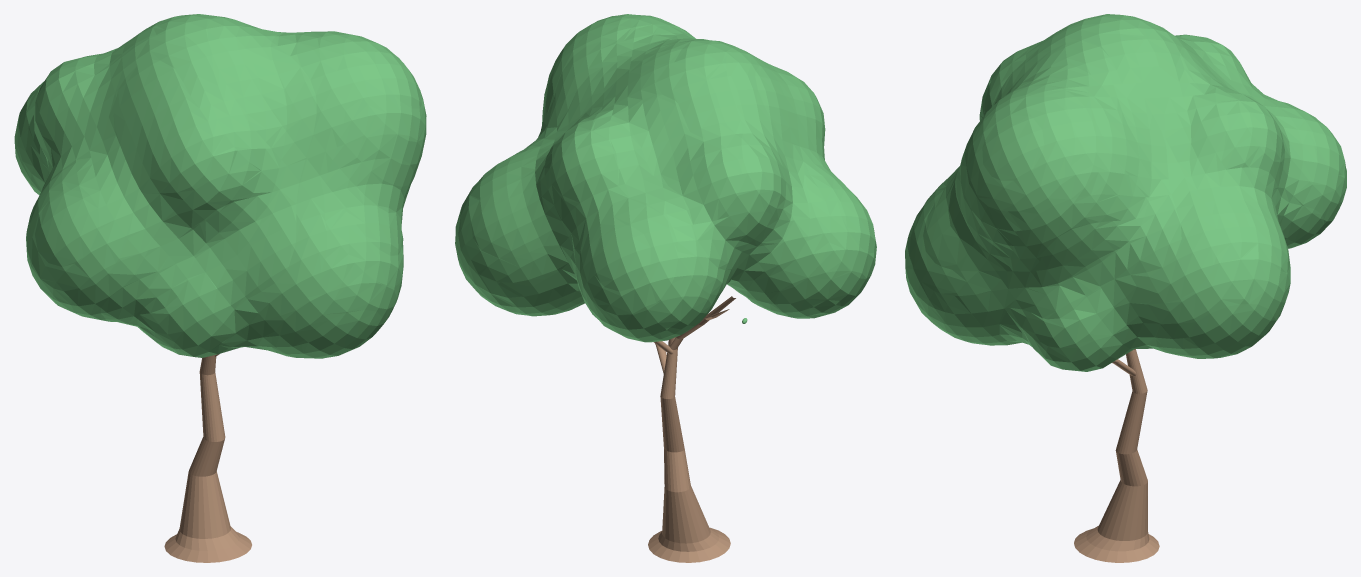
The model's file is Cartoon_Trees_Pack_Tree_2.glb.
3 renders of one model, left to right at view 1: azimuth 30°, elevation 25°; view 2: azimuth 150°, elevation 25°; view 3: azimuth 270°, elevation 25°, orthographic. The views are drawn at different scales.
Visible parts, largest first — view 1: Canopy, Trunk; view 2: Canopy, Trunk; view 3: Canopy, Trunk.
Part boxes in pixels (x1,y1,x2,y2): Canopy: (14,14,426,358); Trunk: (164,354,251,562); Canopy: (455,14,876,342); Trunk: (648,296,735,562); Canopy: (905,14,1346,371); Trunk: (1074,349,1159,562).
Size of the model in its own units: 589 by 802 by 621.
